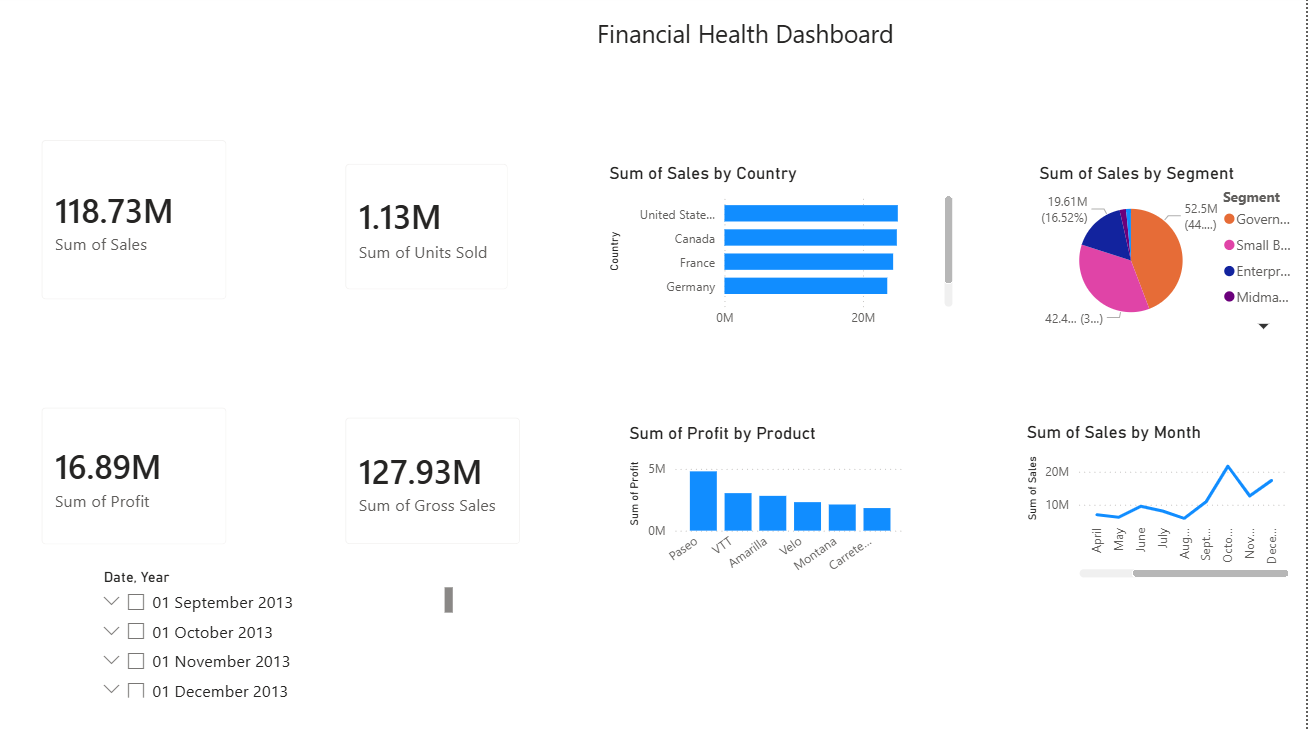

The dashboard page shown, as its layout file describes it:
{"tool":"powerbi","page":{"name":"Page 1","canvas":[1280,720],"ordinal":0},"visuals":[{"type":"cardVisual","fields":{"Data":["Sum(Financial Sample xlsx. Sales)"]},"box":[25.7,126,215.2,190.8],"z":0},{"type":"cardVisual","fields":{"Data":["Sum(Financial Sample xlsx.Profit)"]},"box":[25.7,387.6,215.2,168.8],"z":3},{"type":"cardVisual","fields":{"Data":["Sum(Financial Sample xlsx.Units Sold)"]},"box":[322.8,149.2,193.2,157.7],"z":4},{"type":"cardVisual","fields":{"Data":["Sum(Financial Sample xlsx.Gross Sales)"]},"box":[322.8,397.4,205.4,159],"z":5},{"type":"clusteredBarChart","fields":{"Category":["Financial Sample xlsx.Country"],"Y":["Sum(Financial Sample xlsx. Sales)"]},"box":[593.1,165.1,346.1,170],"z":6},{"type":"clusteredColumnChart","fields":{"Category":["Financial Sample xlsx.Product"],"Y":["Sum(Financial Sample xlsx.Profit)"]},"box":[612.6,419.4,280,157.7],"z":7},{"type":"textbox","box":[373,0,706.8,74.6],"z":8},{"type":"lineChart","fields":{"Category":["Financial Sample xlsx.Date.Variation.Date Hierarchy.Year","Financial Sample xlsx.Date.Variation.Date Hierarchy.Quarter","Financial Sample xlsx.Date.Variation.Date Hierarchy.Month","Financial Sample xlsx.Date.Variation.Date Hierarchy.Day"],"Y":["Sum(Financial Sample xlsx. Sales)"]},"box":[1001.5,418.2,266.6,157.7],"z":9},{"type":"pieChart","fields":{"Category":["Financial Sample xlsx.Segment"],"Y":["Sum(Financial Sample xlsx. Sales)"]},"box":[1013.7,165.1,266.6,172.4],"z":10},{"type":"slicer","fields":{"Values":["Financial Sample xlsx.Date","Financial Sample xlsx.Year"]},"box":[90.5,556.4,359.5,137],"z":11}]}

Visuals, with their boxes in screenshot pixels (x1, y1, x2, y2), scaled from the page's 1280x720 canvas onto the 1308x729 screenshot:
cardVisual - Sum(Financial Sample xlsx. Sales): 26 128 246 321
cardVisual - Sum(Financial Sample xlsx.Profit): 26 392 246 563
cardVisual - Sum(Financial Sample xlsx.Units Sold): 330 151 527 311
cardVisual - Sum(Financial Sample xlsx.Gross Sales): 330 402 540 563
clusteredBarChart - Financial Sample xlsx.Country x Sum(Financial Sample xlsx. Sales): 606 167 960 339
clusteredColumnChart - Financial Sample xlsx.Product x Sum(Financial Sample xlsx.Profit): 626 425 912 584
textbox: 381 0 1103 76
lineChart - Financial Sample xlsx.Date.Variation.Date Hierarchy.Year x Financial Sample xlsx.Date.Variation.Date Hierarchy.Quarter: 1023 423 1296 583
pieChart - Financial Sample xlsx.Segment x Sum(Financial Sample xlsx. Sales): 1036 167 1307 342
slicer - Financial Sample xlsx.Date x Financial Sample xlsx.Year: 92 563 460 702
